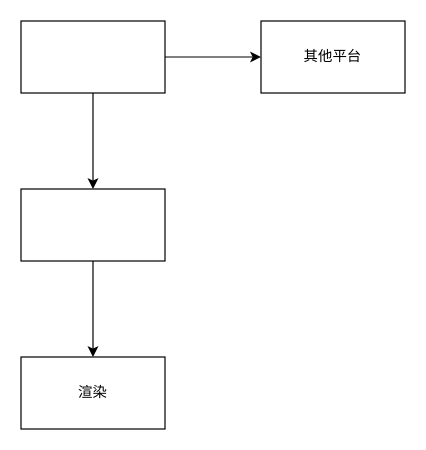
The diagram is 426 pixels wide and 450 high, and some of its shapes have lost their labels. The shapes that lost their labels are listed below. From the top down, each one's centre as x and y in pixels, then its label:
point 92,56: 基础图形
point 92,224: streamlit-components适配层
